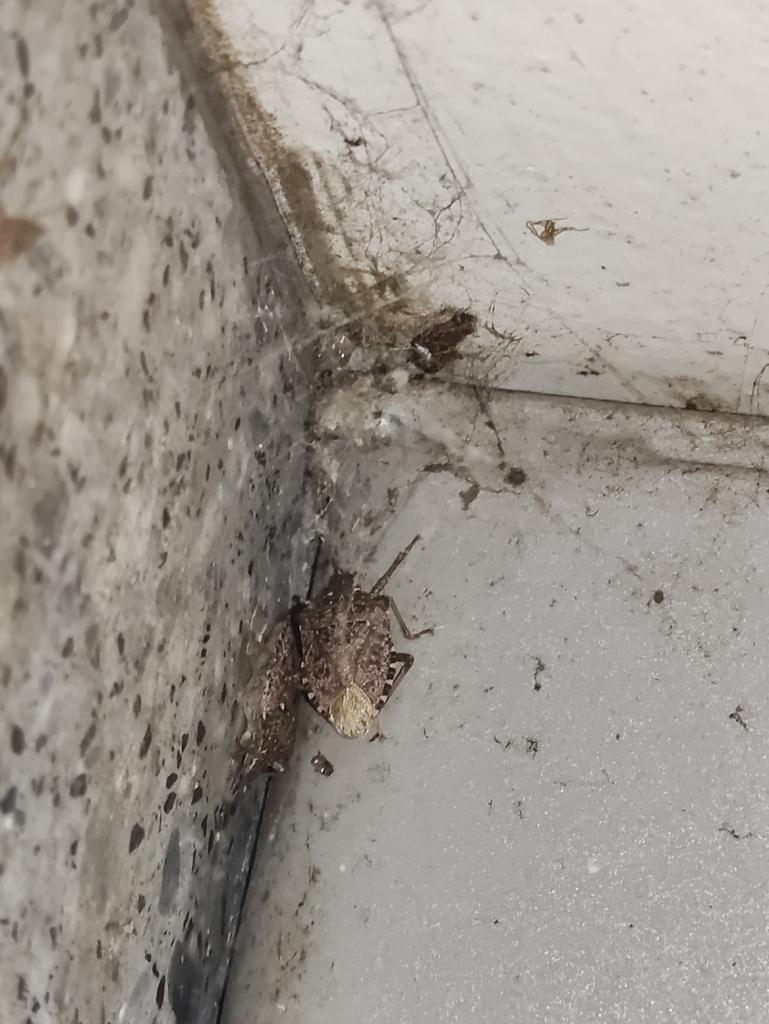stink_bugs: (247, 513, 447, 768)
